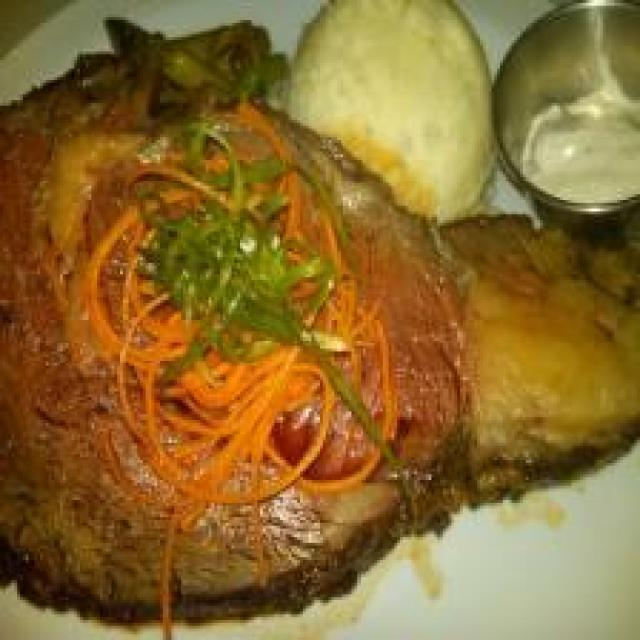Rib: (3, 66, 634, 617)
